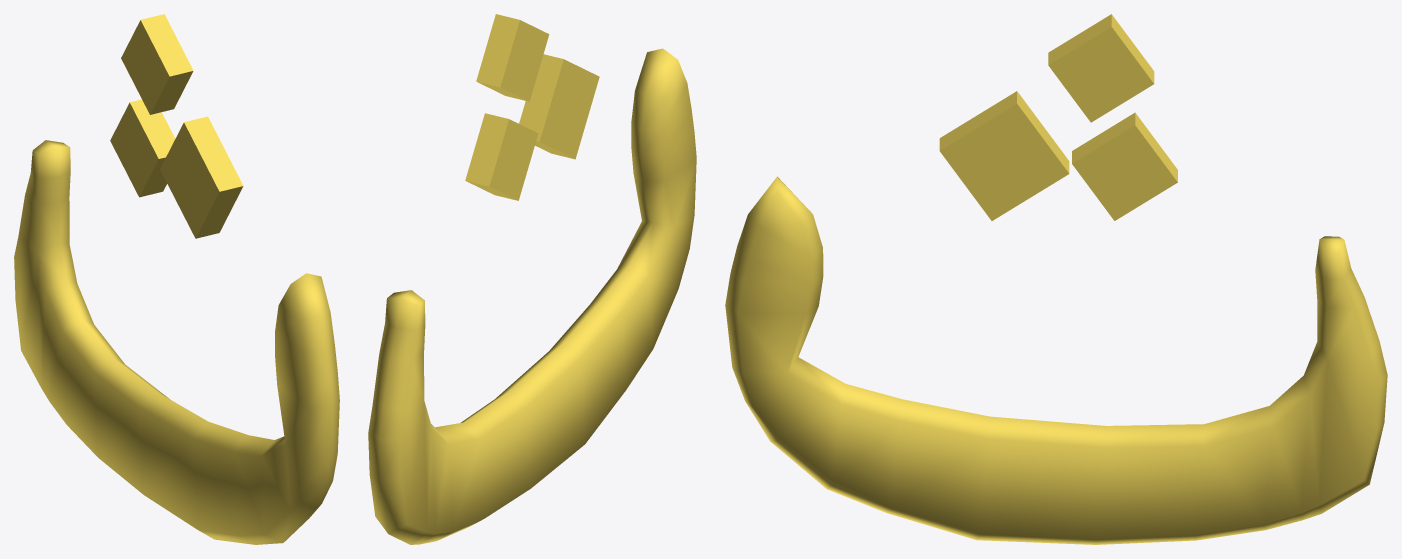
3 renders of one model, left to right at view 1: azimuth 30°, elevation 25°; view 2: azimuth 150°, elevation 25°; view 3: azimuth 270°, elevation 25°, orthographic. The views are drawn at different scales.
Parts seen in each view (by area): view 1: se; view 2: se; view 3: se.
Part boxes in pixels (x1=…): se: x1=14, y1=14, x2=339, y2=544; se: x1=368, y1=14, x2=696, y2=544; se: x1=725, y1=14, x2=1387, y2=544.
Bounding box in the file's own units: 12.85 × 212 × 185.
1 material, 1 textured.
